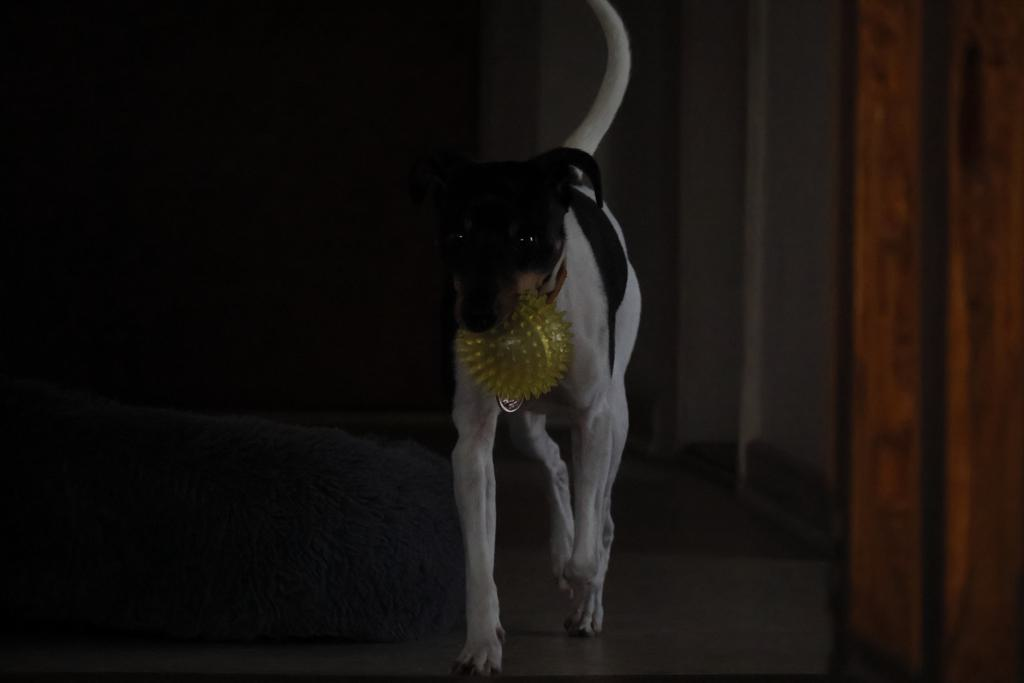Dog: (391, 0, 657, 683)
